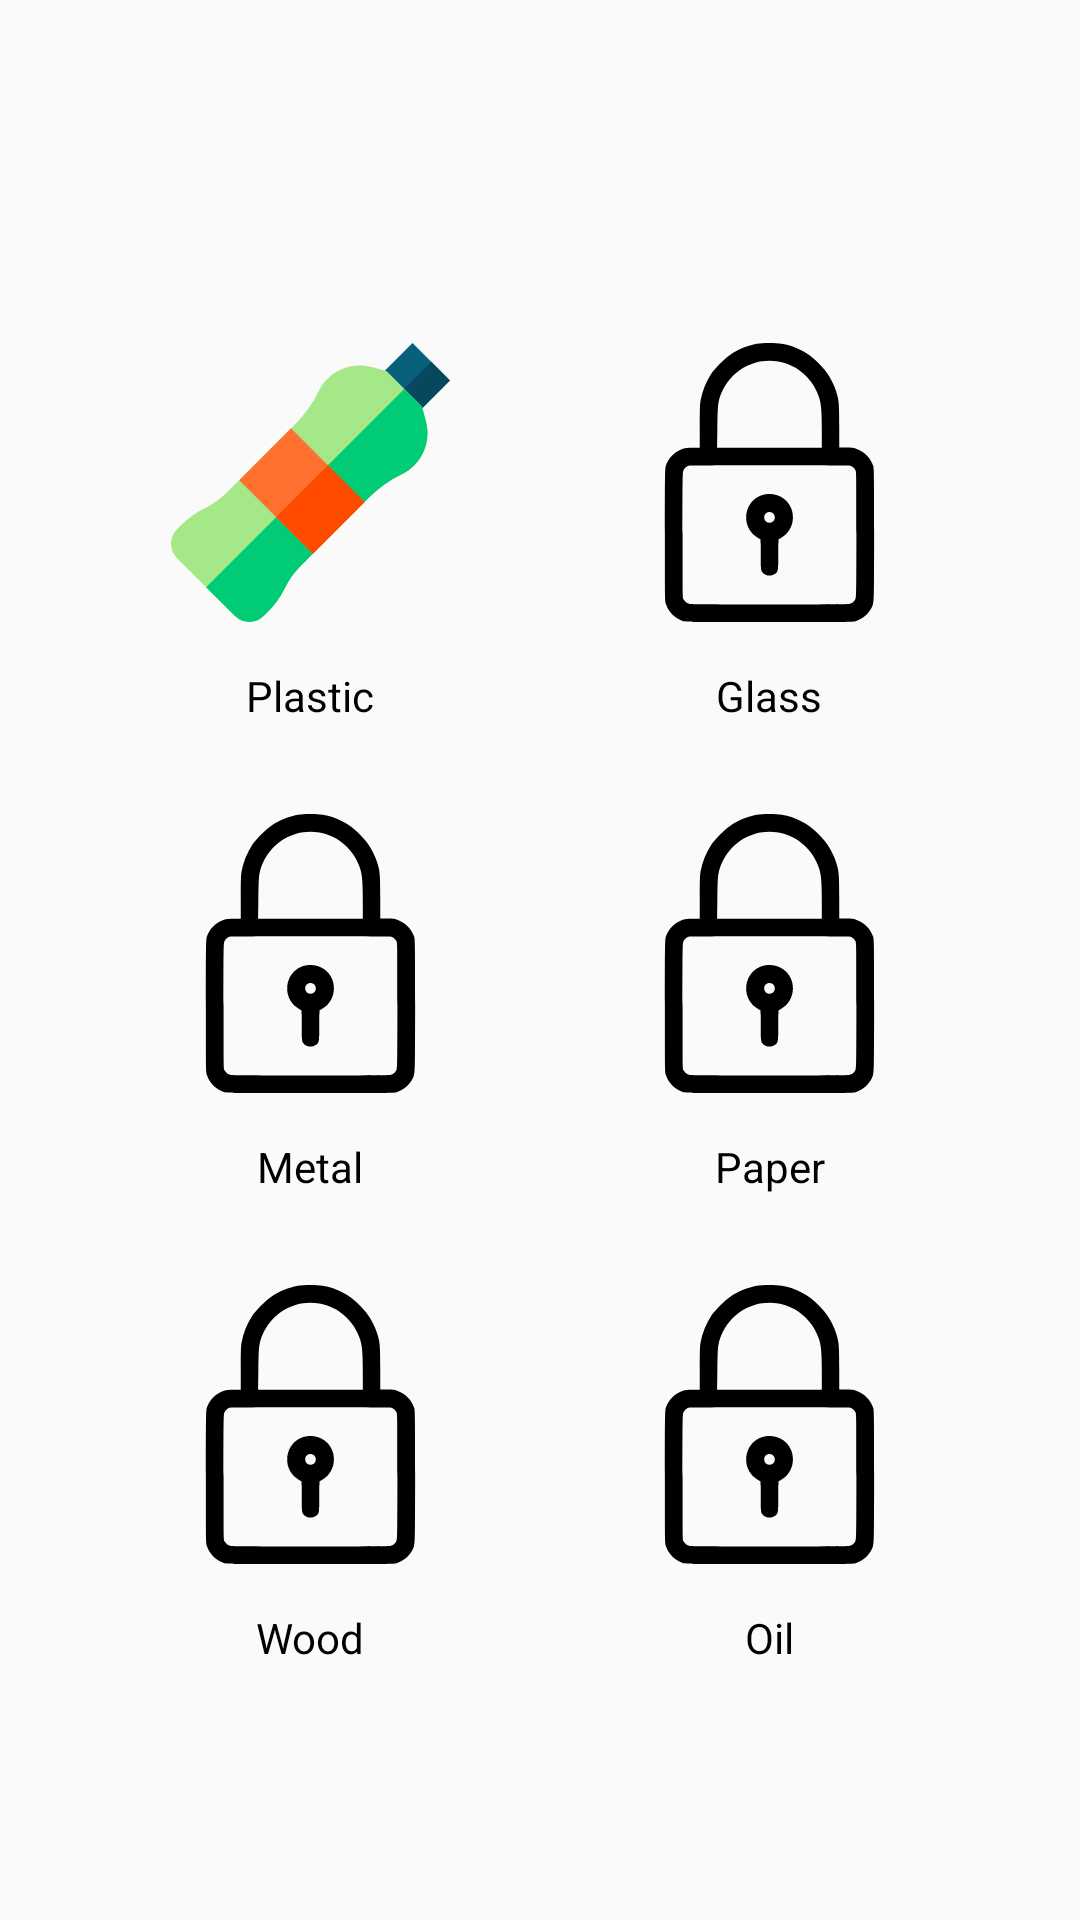

Locate icon controls on the screen. Image size 1080px x 1920px, boxes as BBox(x1, y1, x2, y2).
password: BBox(664, 343, 875, 622), BBox(205, 814, 416, 1093), BBox(664, 814, 875, 1093), BBox(205, 1285, 416, 1564), BBox(664, 1285, 875, 1564)
soda: BBox(171, 343, 450, 622)
